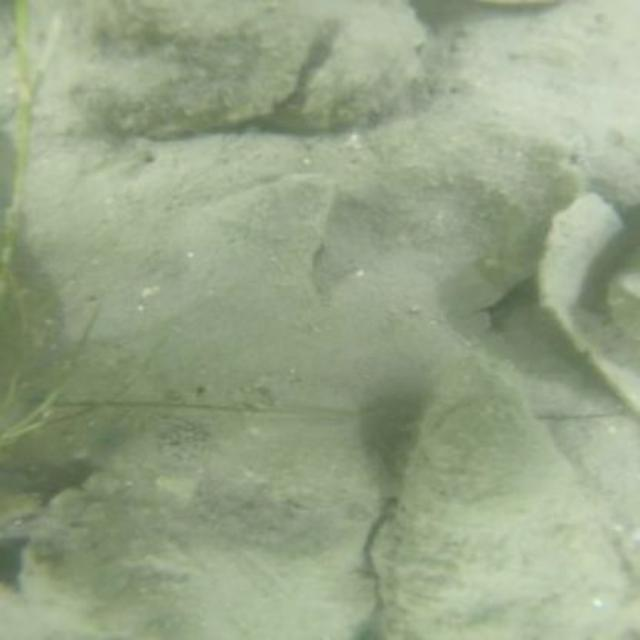Oyster-Closed: (15, 376, 389, 638), (376, 363, 638, 638), (40, 1, 314, 140), (300, 19, 421, 129)
